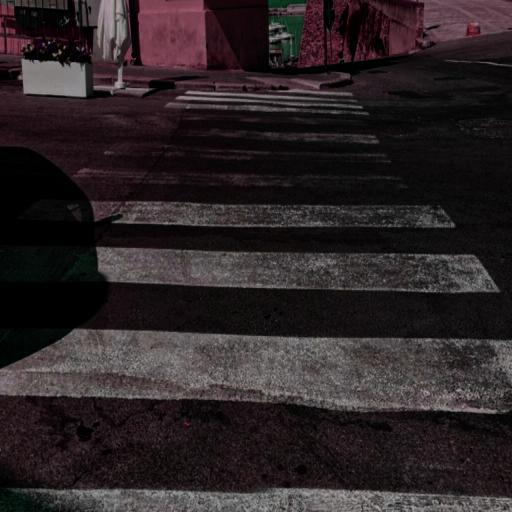crosswalk: (0, 196, 504, 306)
